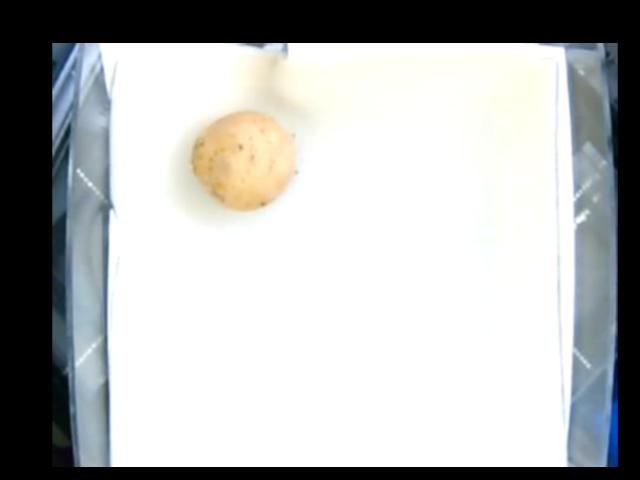Potato: (191, 112, 300, 208)
